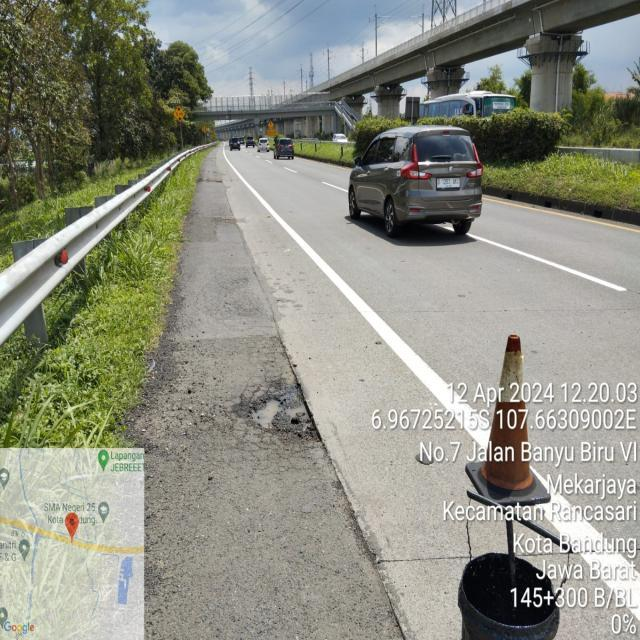Buraco: (240, 380, 324, 450), (413, 450, 437, 468)
